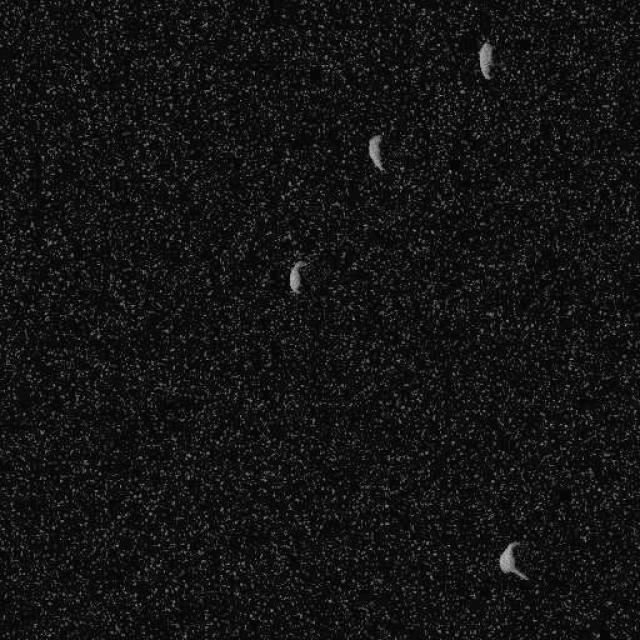D2: (498, 540, 530, 582), (366, 132, 386, 172), (476, 40, 495, 80), (288, 258, 306, 294)
